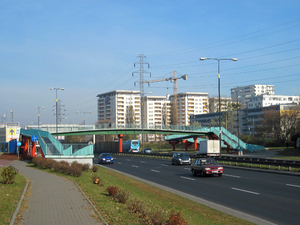bridge: (22, 123, 213, 137)
